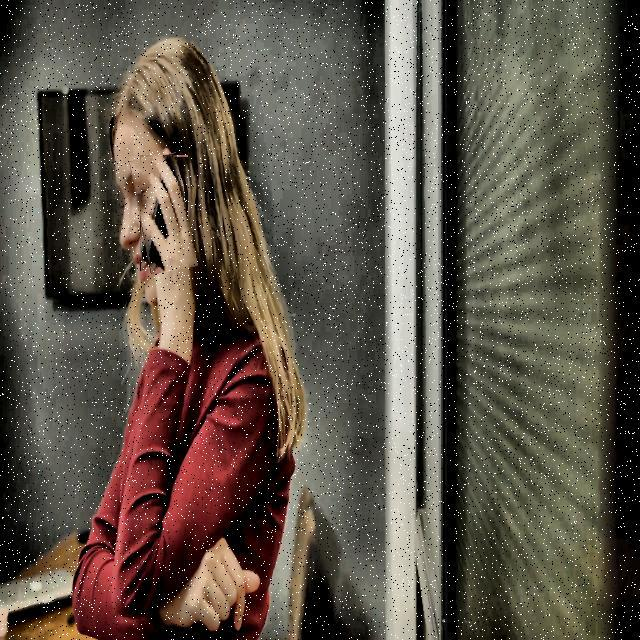Phone: (134, 154, 193, 273)
